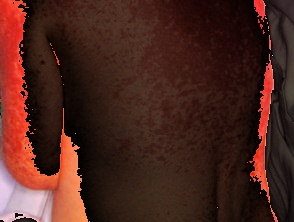SJS-TEN: (0, 0, 287, 222)
